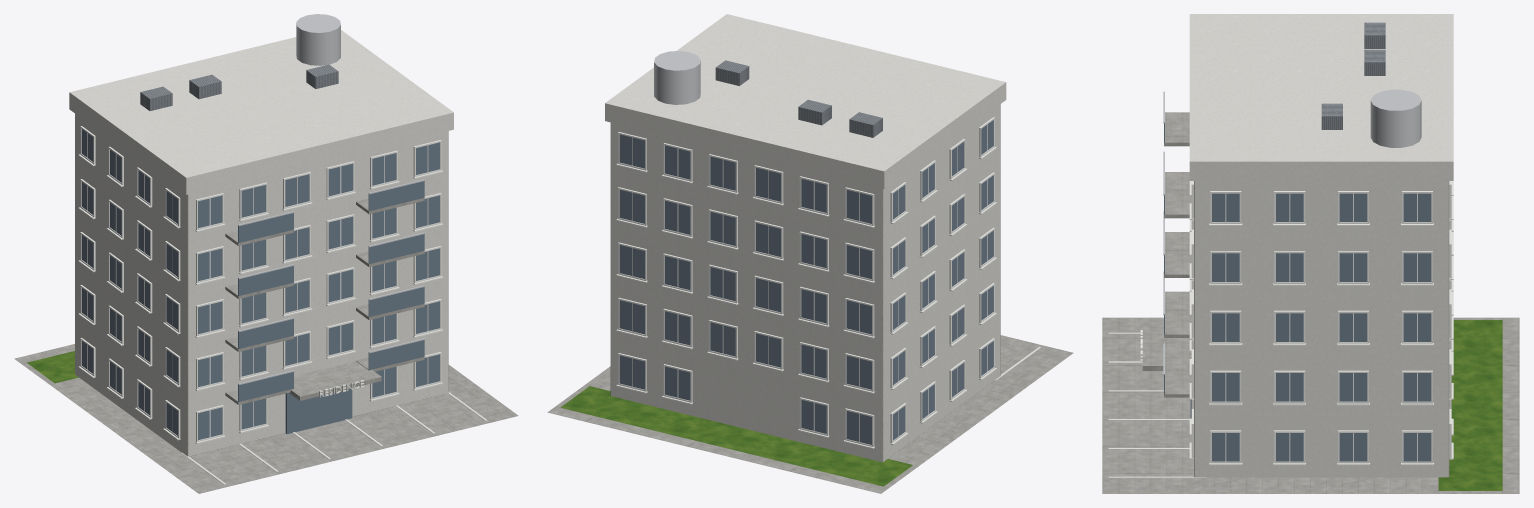
Rendered from apartment_0.gltf.
The picture shows the model from 3 angles, left to right: view 1: azimuth 30°, elevation 25°; view 2: azimuth 150°, elevation 25°; view 3: azimuth 270°, elevation 25°; orthographic projection. The views are drawn at different scales.
Parts seen in each view (by area): view 1: apartment_0; view 2: apartment_0; view 3: apartment_0.
Boxes of the visible parts, <box> form: apartment_0: <box>14,14,518,493</box>; apartment_0: <box>547,14,1073,493</box>; apartment_0: <box>1102,14,1519,493</box>.
Size of the model in its own units: 3.92 by 3.68 by 3.92.
8 materials, 4 textured.
